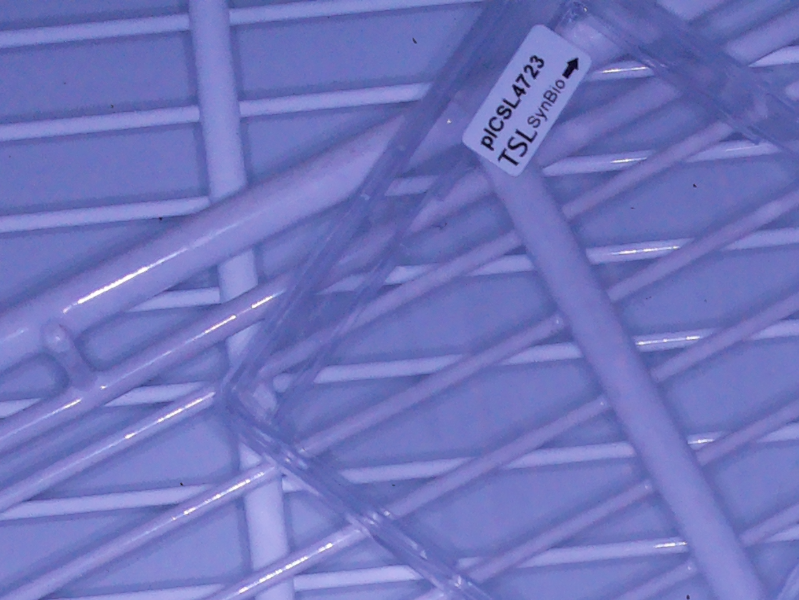plate: (215, 3, 799, 600)
